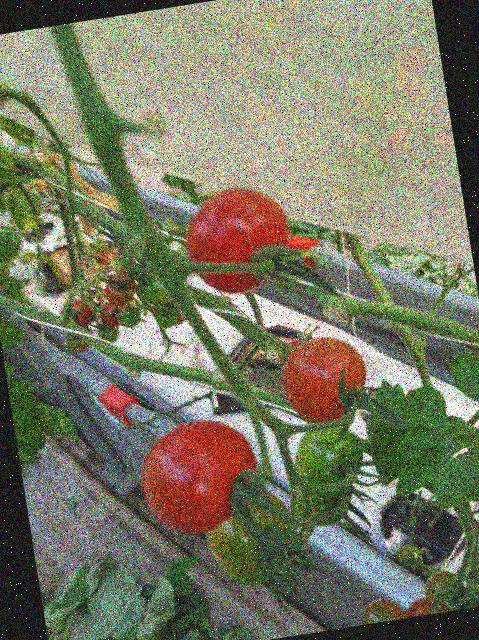l_fully_ripened: (135, 413, 267, 540), (178, 180, 298, 299), (277, 329, 374, 427)
l_green: (200, 481, 299, 580), (289, 420, 369, 505)
